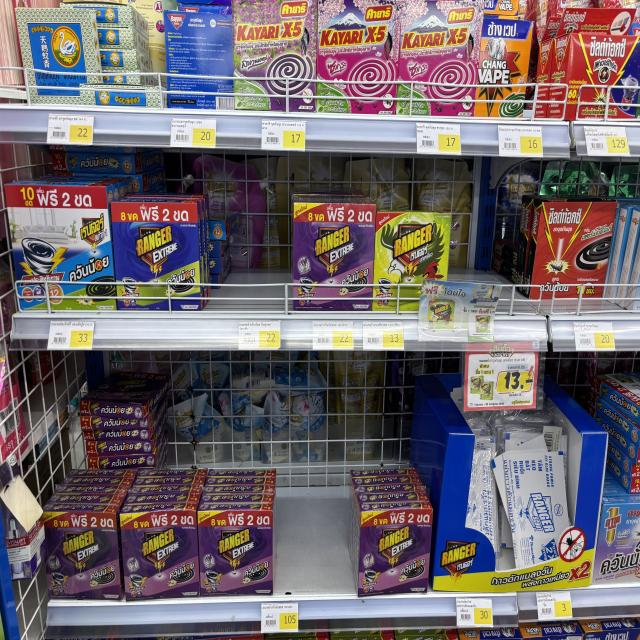empty_shelf: (29, 355, 274, 512), (275, 355, 357, 598), (448, 170, 539, 315), (356, 348, 436, 511), (203, 170, 292, 310)
